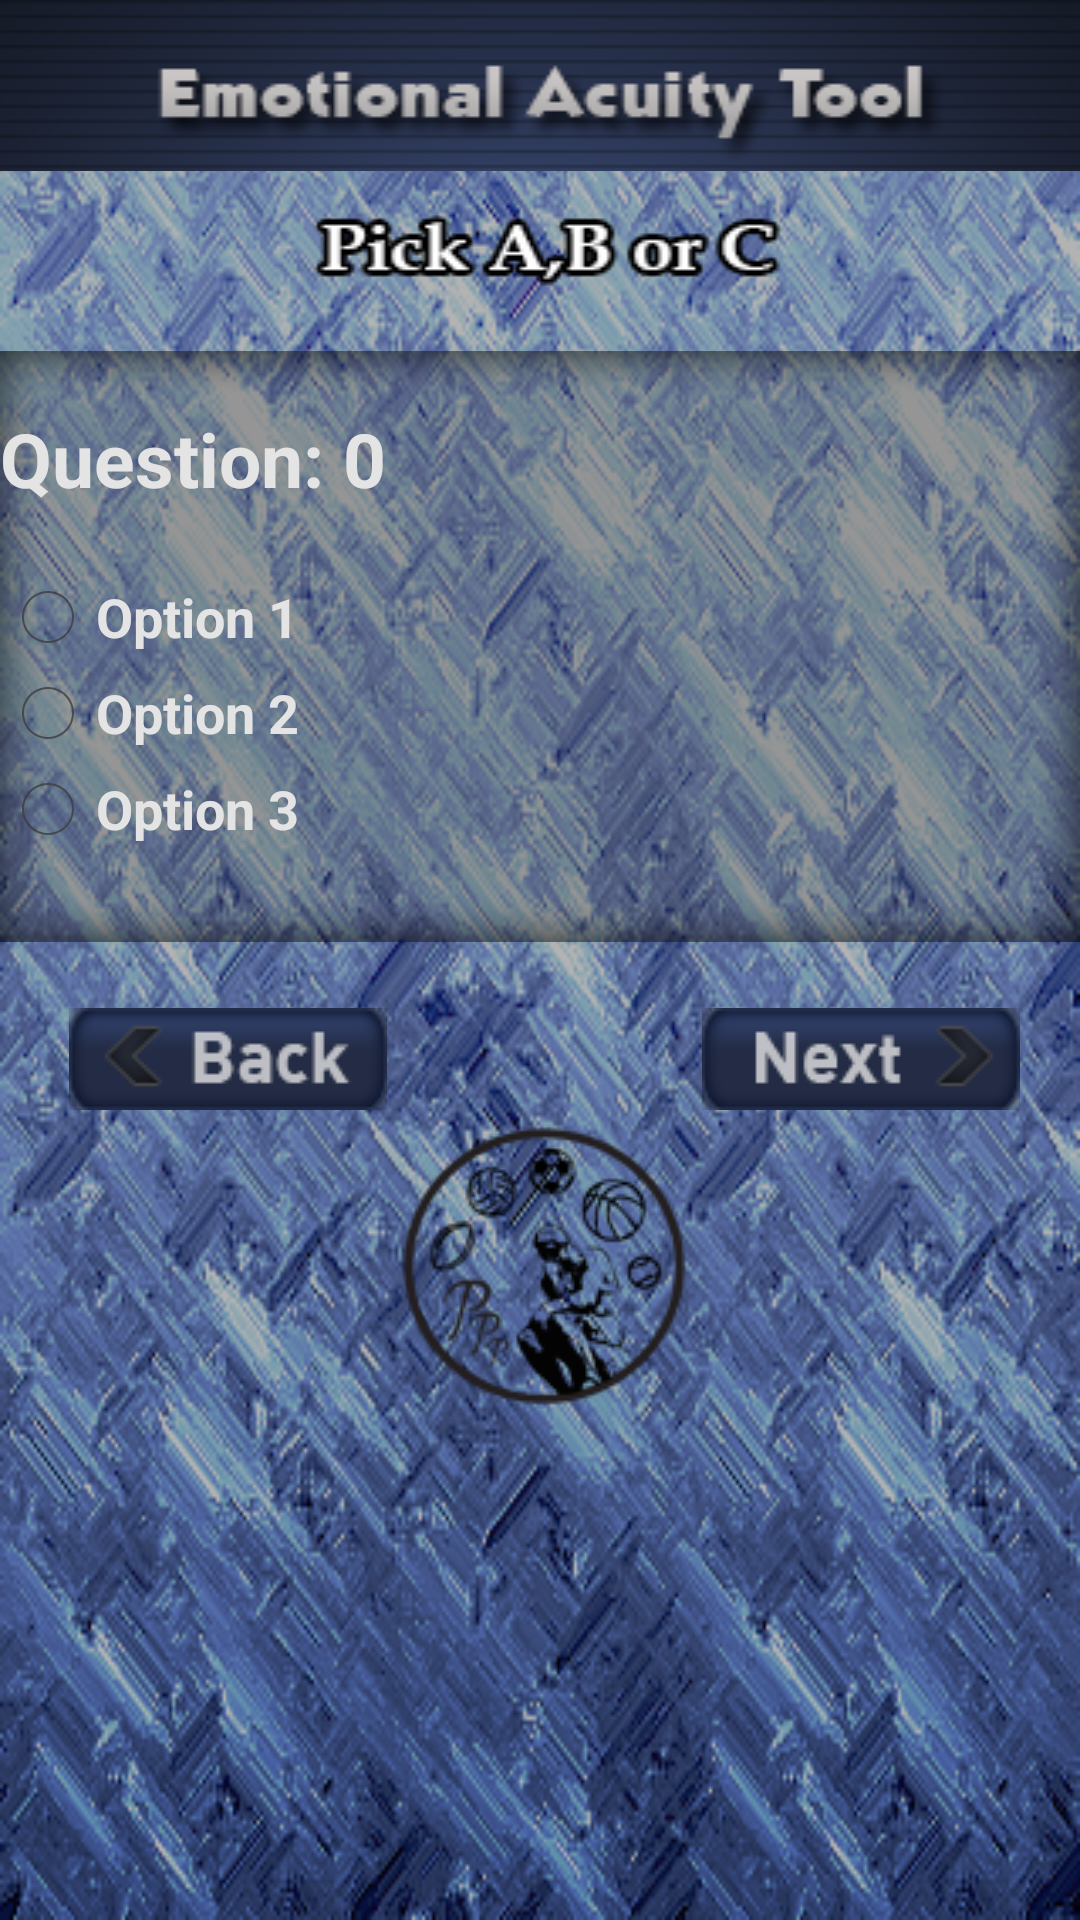

Where to tap for icons on this 1080 × 1920 app screen, as (x=x, y=y):
circle: (x=539, y=1261)
